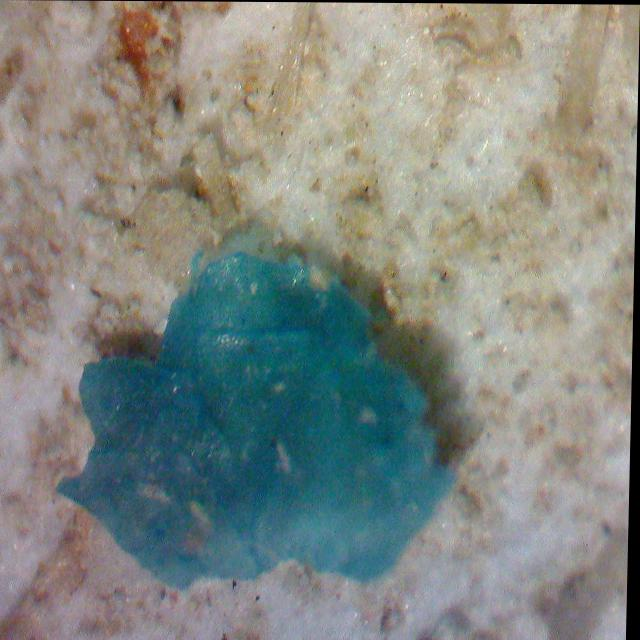microplastic: (4, 186, 517, 640)
